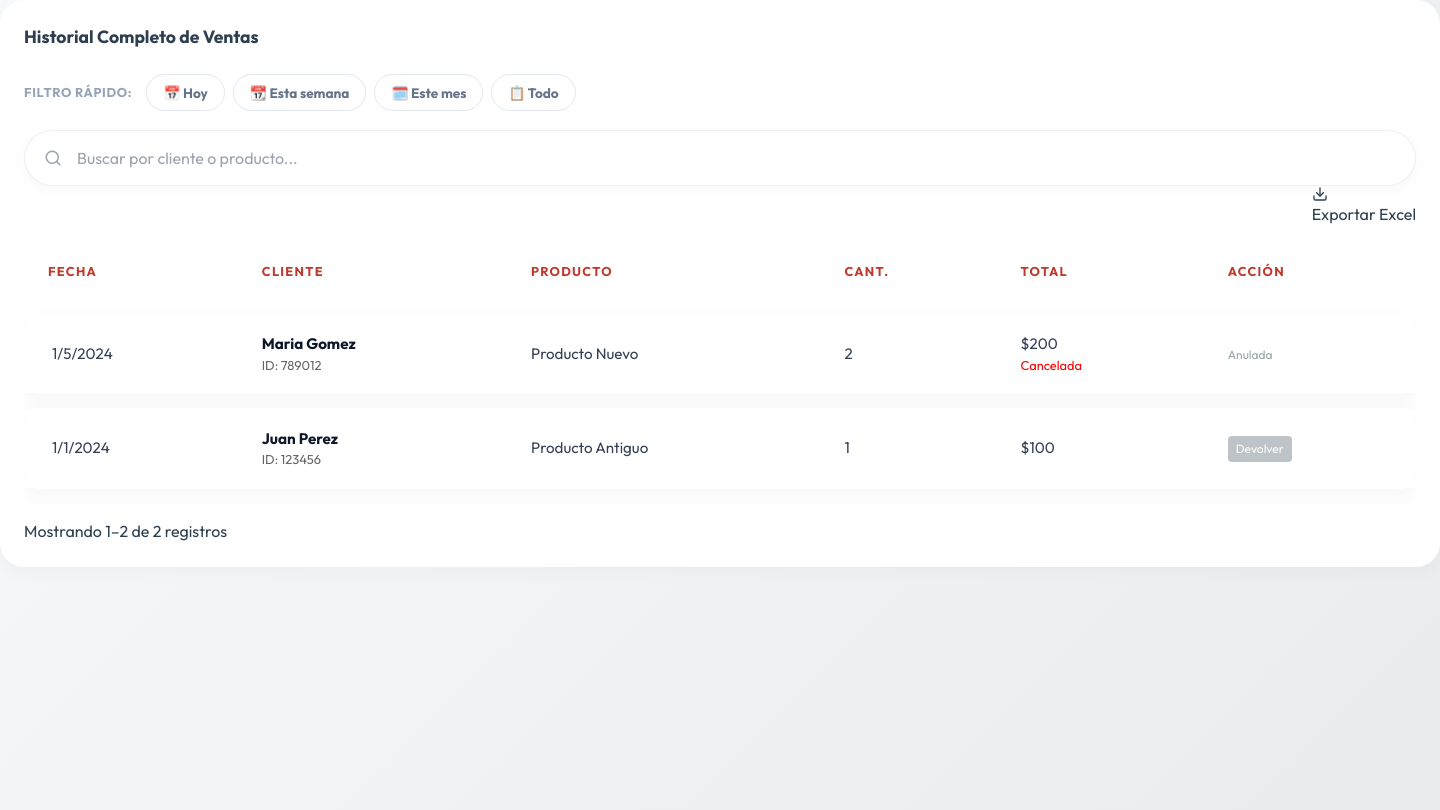
Test: Matriz de Casos de Prueba - Historial de Ventas (CP-010) › CP-010-003: Buscar un cliente o producto específico en pantalla
The width and height of the screenshot is (1440, 810).
In the field with placeholder "Buscar por cliente o producto...": (720, 158) [24,130,1416,186], type "Juan"
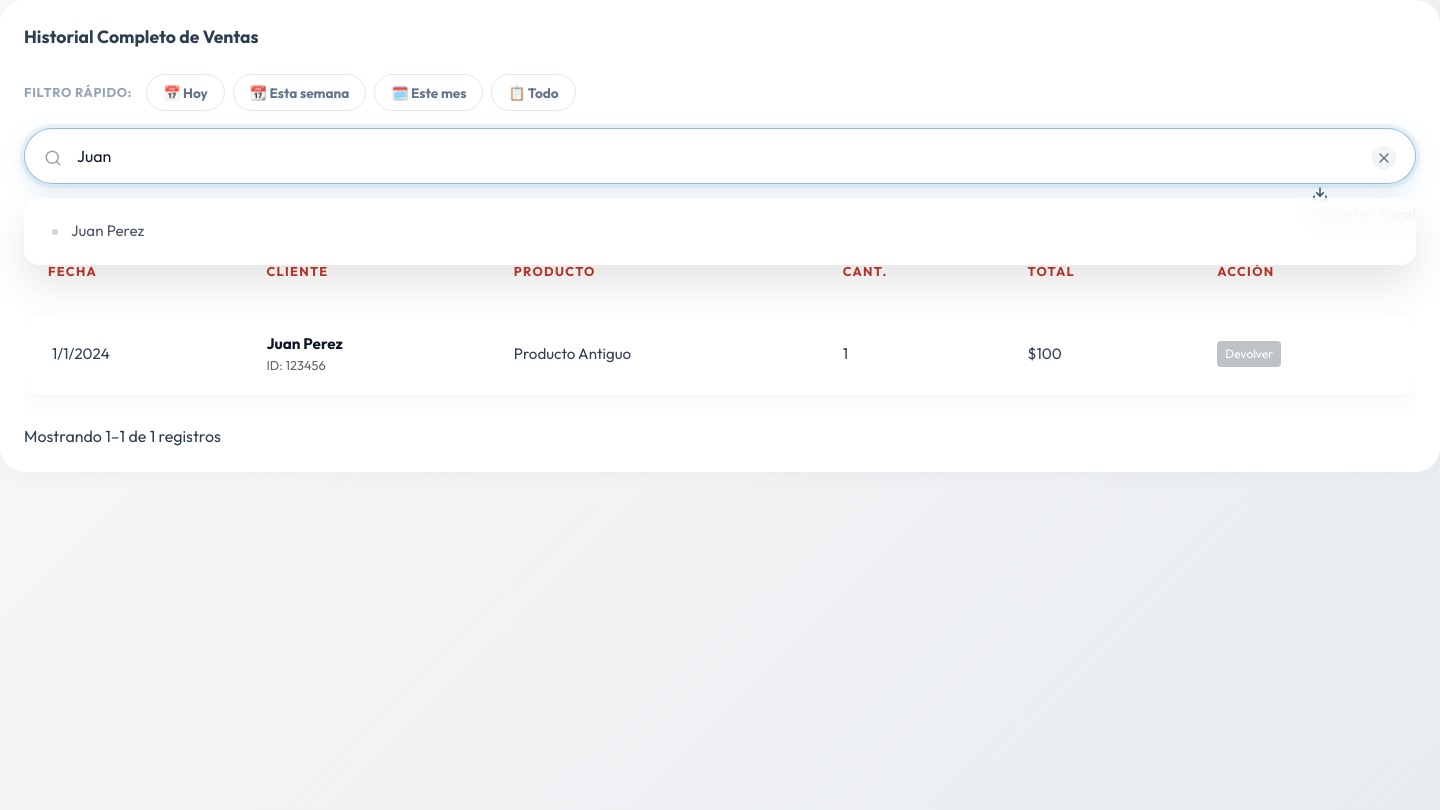
Now the list item "Juan Perez" is shown, box [52,221,144,240]
Now the text "Maria Gomez" is gone
